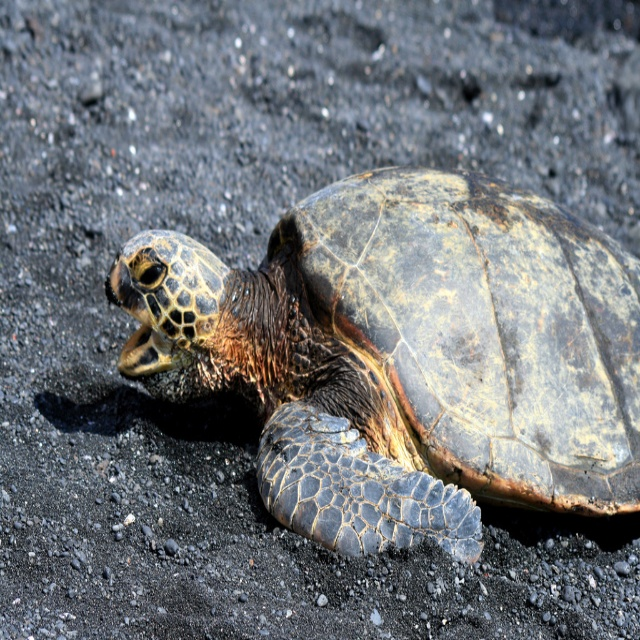Sea turtle: (105, 164, 640, 565)
